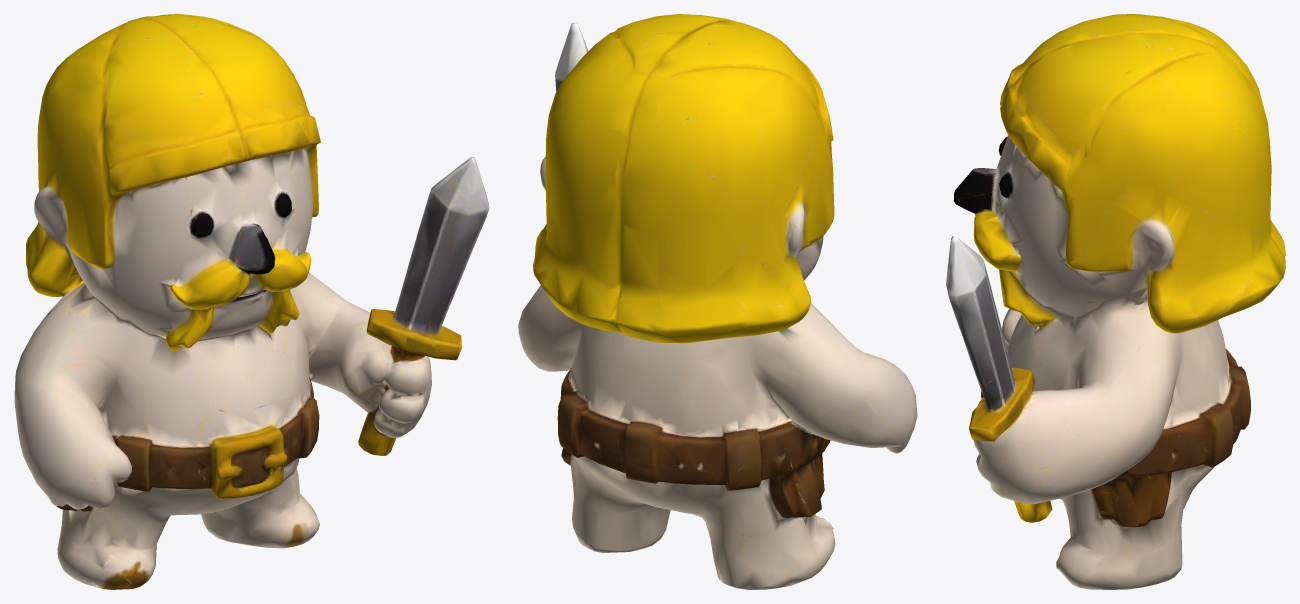
File: Barbaro.glb
The picture shows the model from 3 angles, left to right: view 1: azimuth 30°, elevation 25°; view 2: azimuth 150°, elevation 25°; view 3: azimuth 270°, elevation 25°; orthographic projection. The views are drawn at different scales.
Size of the model in its own units: 1.56 by 1.9 by 1.16.
1 material, 1 textured.
